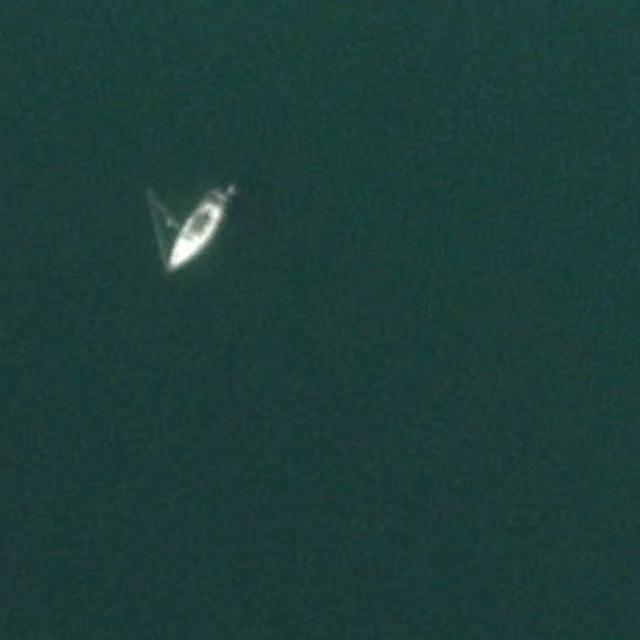ship: (163, 180, 233, 272)
